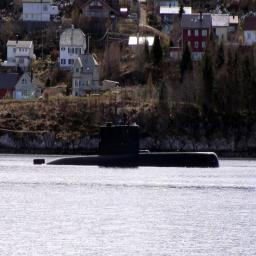submarine: (35, 124, 222, 168)
